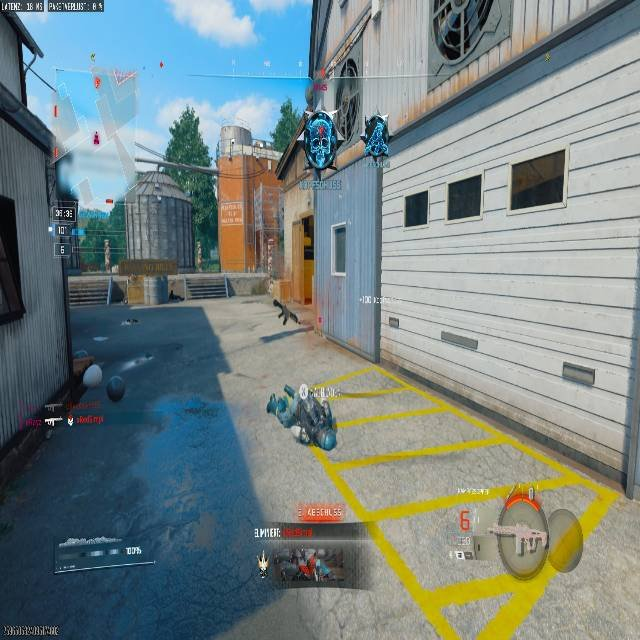player: (265, 382, 337, 450)
